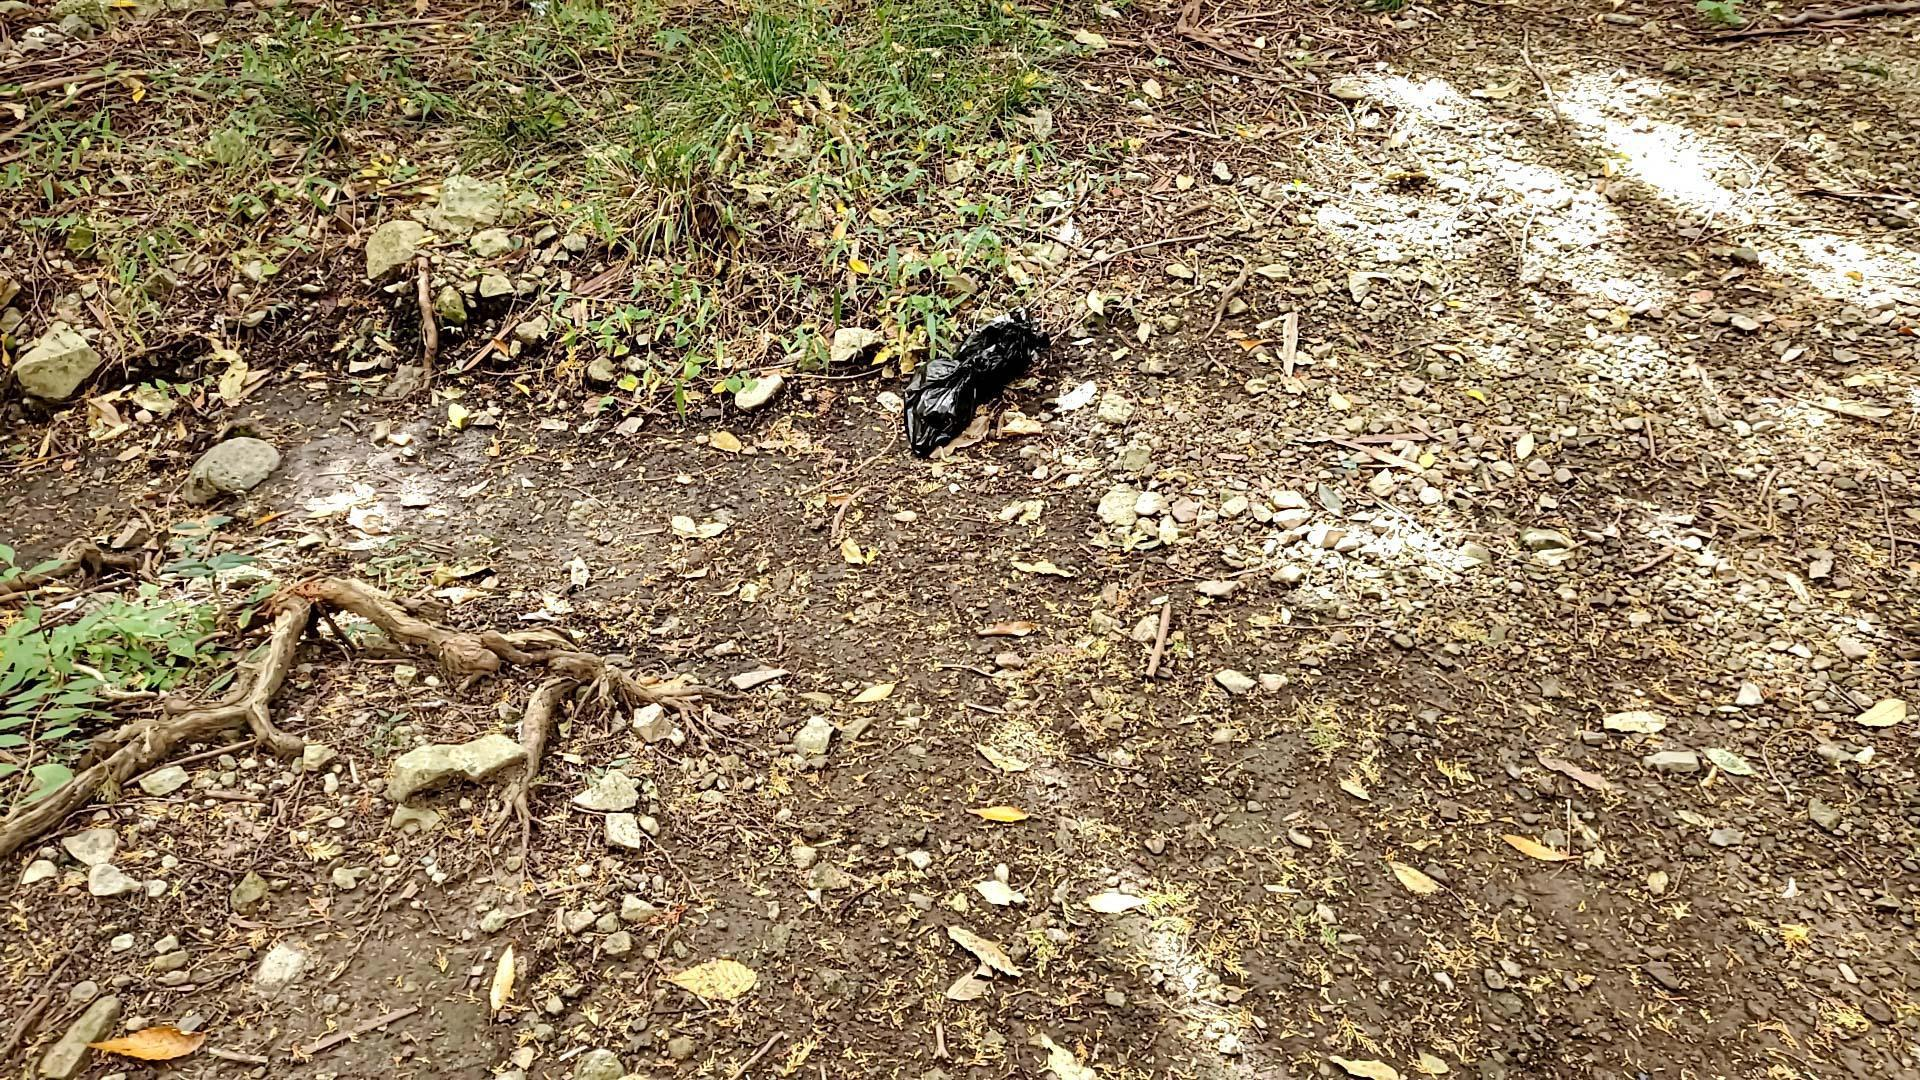black_bag: (881, 311, 1056, 464)
